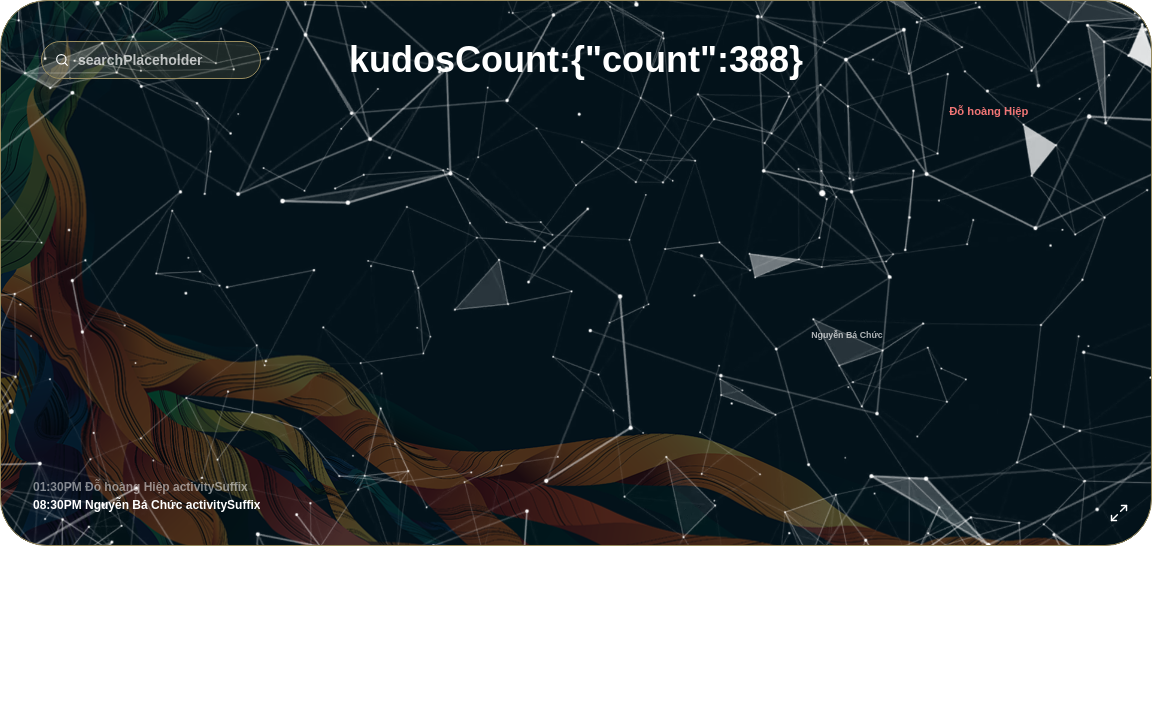
Test case: SpotlightBoard › toggles the panel between compact (expand affordance) and expanded (collapse affordance)
What coordinates should you click on to do the following:
click the button named "expand"
I would click on:
 (1119, 513)
Its box is [1103,497,1135,529].
(page scrolled)
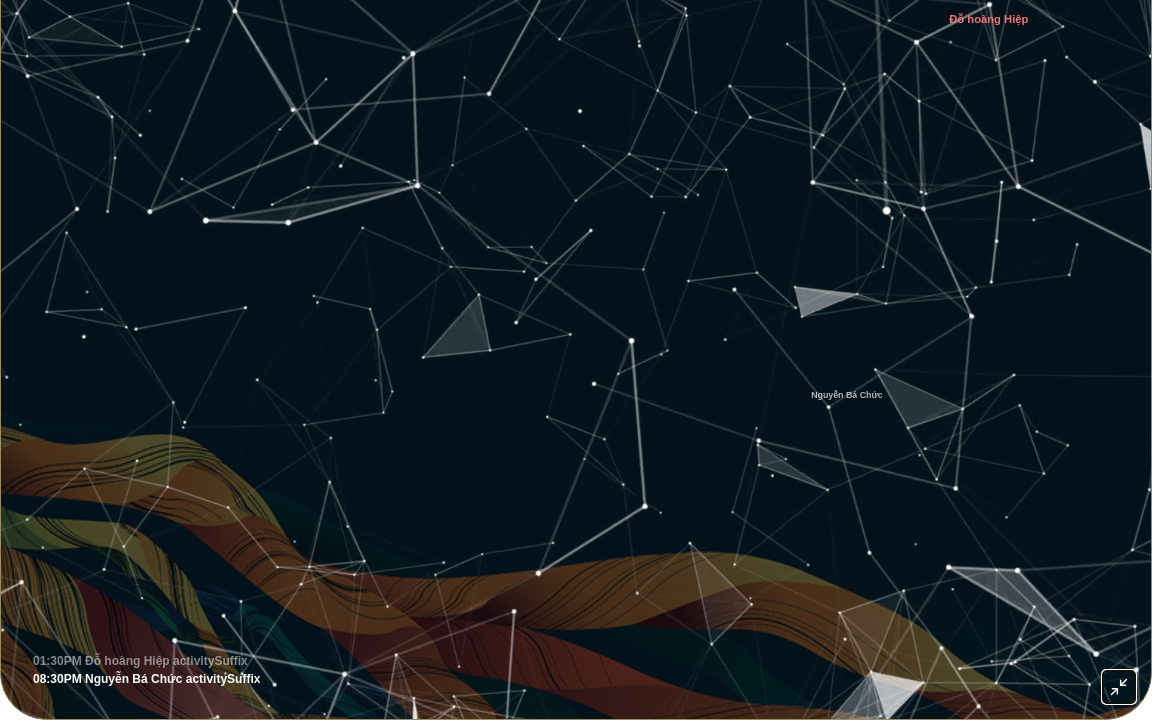
Expected: the button named "collapse" is shown, [1103,671,1135,703]
